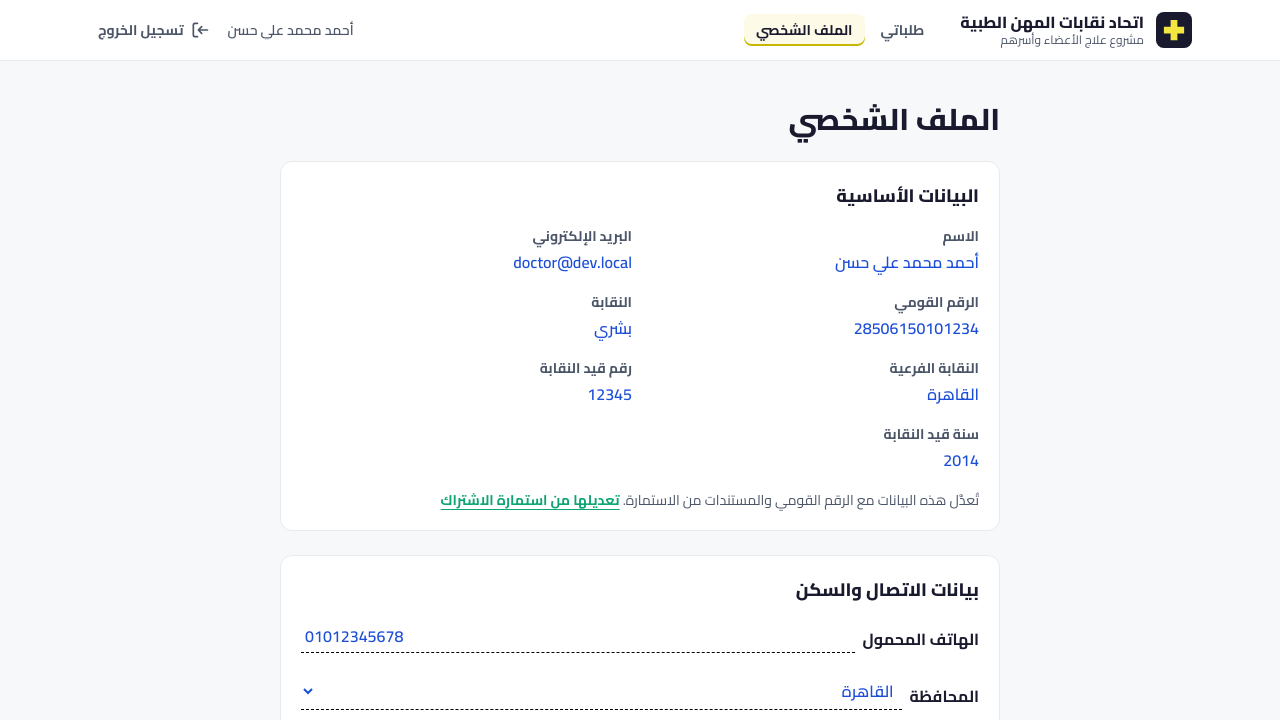
Test: ProfilePage › shows the instant validation message and sends nothing for an invalid mobile
Replace the text in the field labelled "الهاتف المحمول" with "0123": coordinates (578, 636) [301, 620, 854, 653]
(page scrolled)
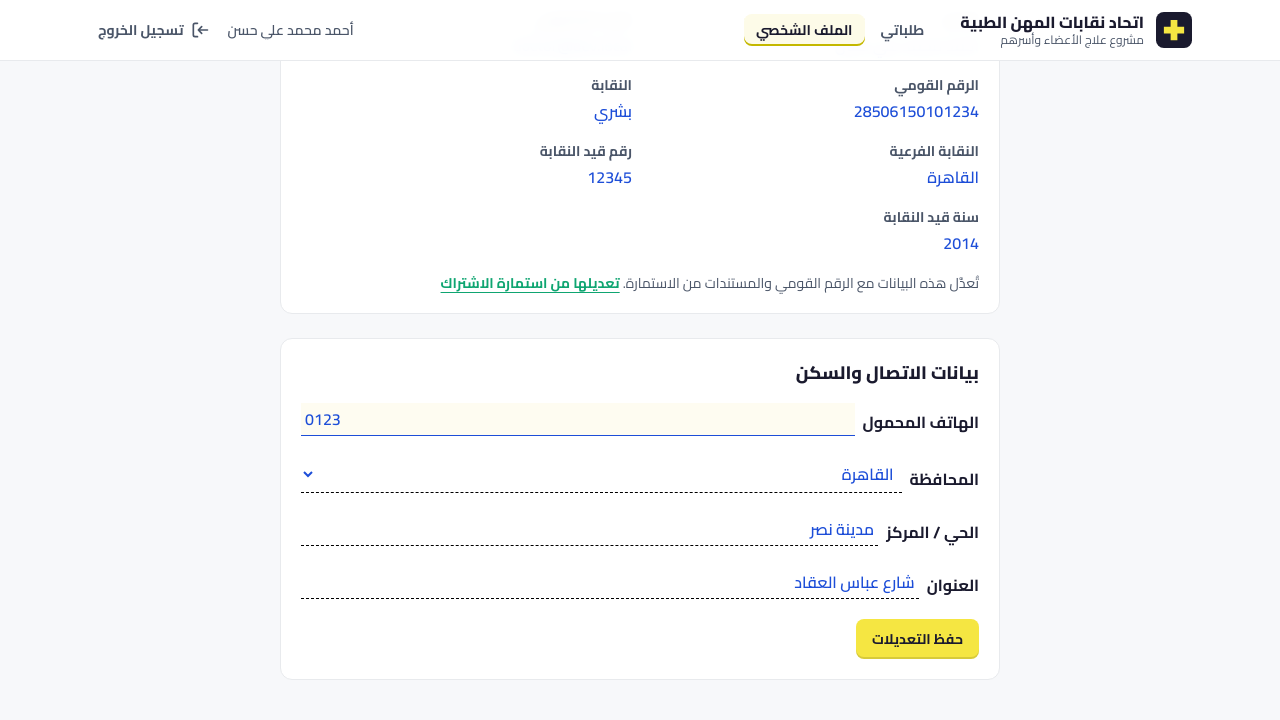
Click the button "حفظ التعديلات": coordinates (918, 639) [856, 619, 979, 659]
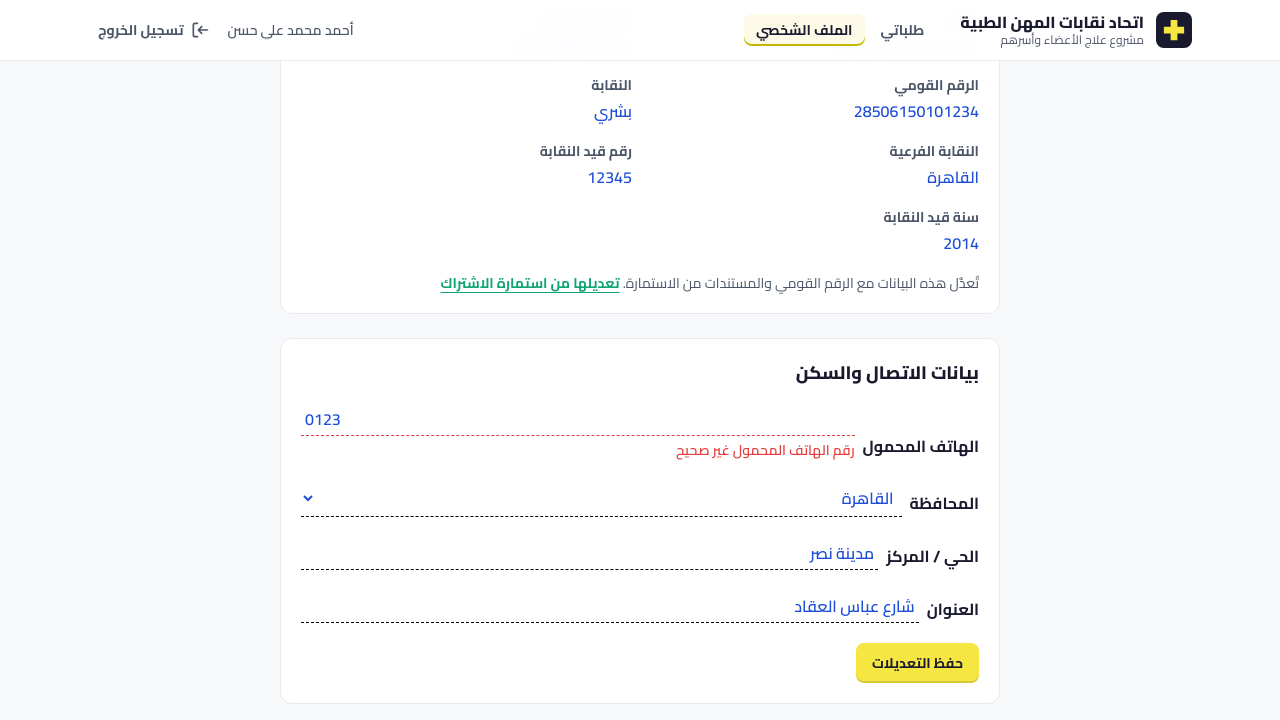
expect the text "رقم الهاتف المحمول غير صحيح" is shown: met, box [676, 437, 855, 463]
